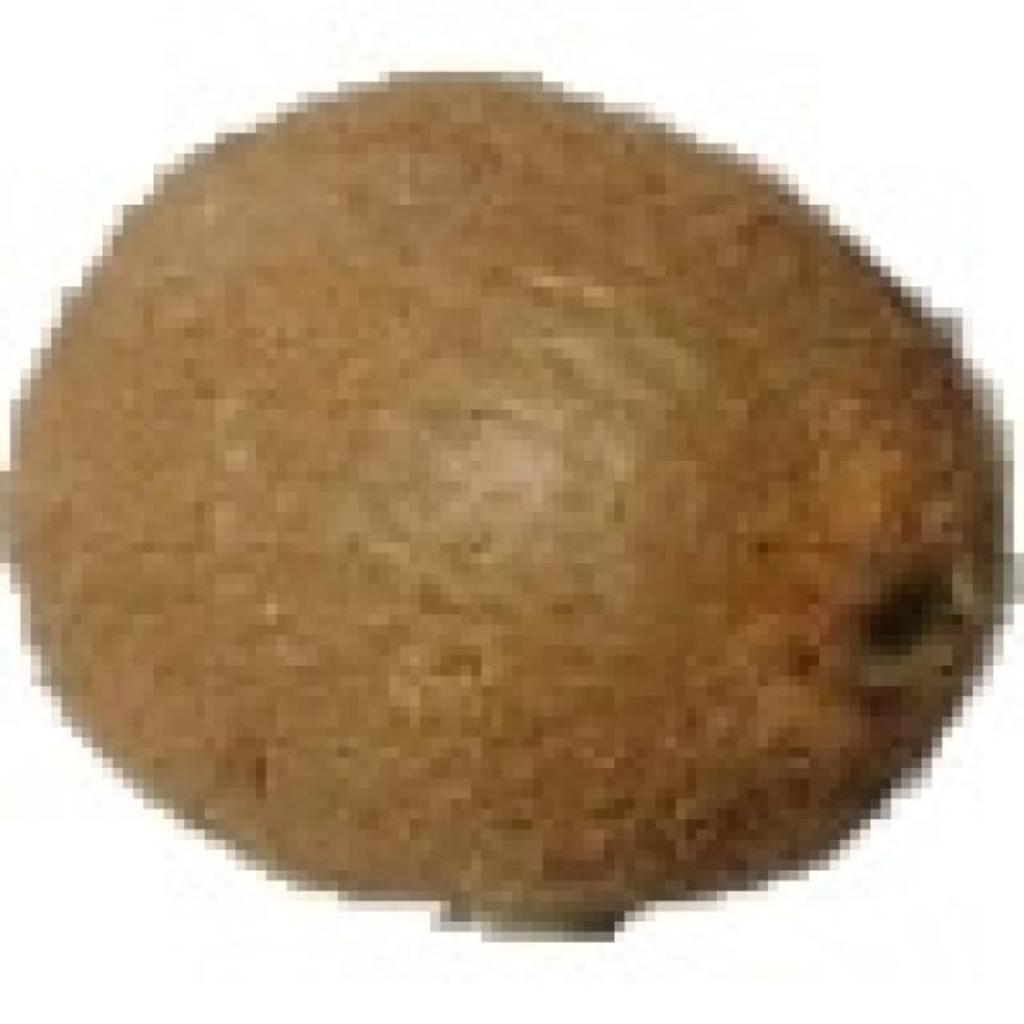kiwi: (10, 61, 983, 911)
